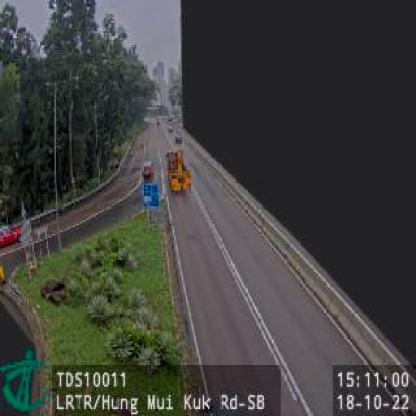Car: (0, 221, 24, 249), (1, 223, 22, 248), (140, 160, 154, 180)
Truck: (167, 146, 194, 196)
